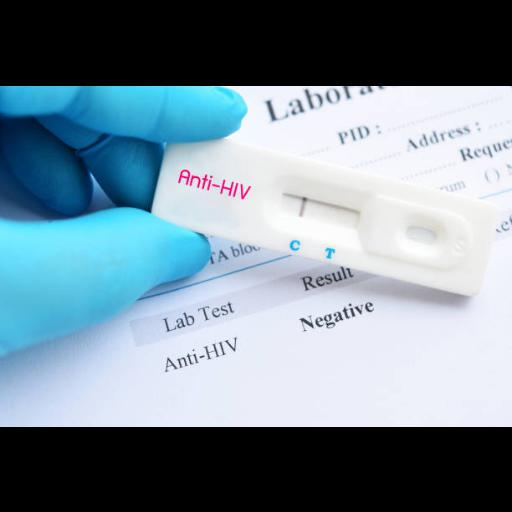Neg: (151, 128, 501, 300)
